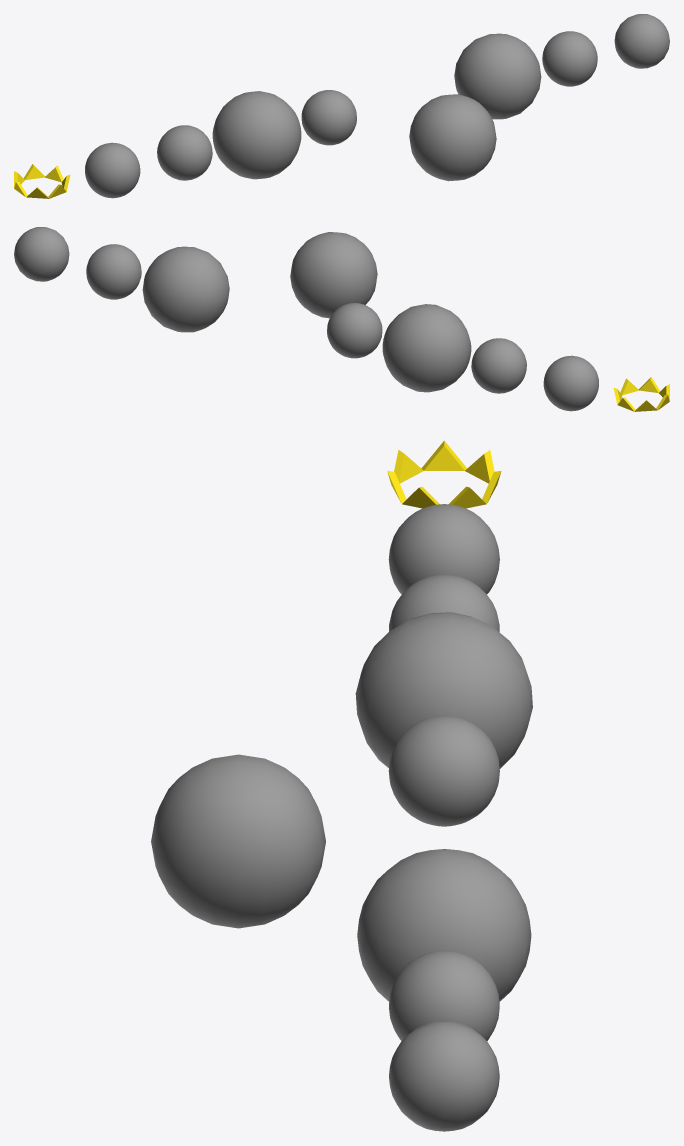
File: ball.fbx
The picture shows the model from 3 angles, top to bottom: view 1: azimuth 30°, elevation 25°; view 2: azimuth 150°, elevation 25°; view 3: azimuth 270°, elevation 25°; orthographic projection. The views are drawn at different scales.
Visible parts, largest first — view 1: ball_3, ball_5, ball_6, ball_7, ball_2, ball_4, ball_1, ball_fuhuo, paper_guangguan; view 2: ball_3, ball_6, ball_5, ball_7, ball_2, ball_4, ball_1, ball_fuhuo, paper_guangguan; view 3: ball_5, ball_3, ball_6, ball_4, ball_fuhuo, ball_7, ball_1, ball_2, paper_guangguan.
Boxes of the visible parts, x1,y1,x2,y2 form: ball_3: [212, 91, 301, 179]; ball_5: [409, 94, 496, 181]; ball_6: [454, 33, 541, 119]; ball_7: [542, 31, 597, 86]; ball_2: [157, 125, 212, 180]; ball_4: [301, 90, 356, 145]; ball_1: [85, 142, 140, 198]; ball_fuhuo: [614, 14, 669, 68]; paper_guangguan: [14, 164, 70, 198]; ball_3: [382, 304, 471, 392]; ball_6: [142, 246, 229, 332]; ball_5: [290, 232, 377, 318]; ball_7: [86, 244, 141, 299]; ball_2: [471, 338, 526, 393]; ball_4: [327, 303, 382, 358]; ball_1: [543, 355, 598, 411]; ball_fuhuo: [14, 227, 69, 281]; paper_guangguan: [613, 377, 669, 411]; ball_5: [151, 754, 325, 928]; ball_3: [355, 612, 532, 768]; ball_6: [357, 849, 531, 1001]; ball_4: [388, 715, 499, 826]; ball_fuhuo: [389, 1021, 499, 1131]; ball_7: [389, 950, 499, 1040]; ball_1: [388, 504, 499, 594]; ball_2: [389, 574, 499, 631]; paper_guangguan: [387, 440, 501, 508].
Size of the model in its own units: 532 by 62.75 by 135.
